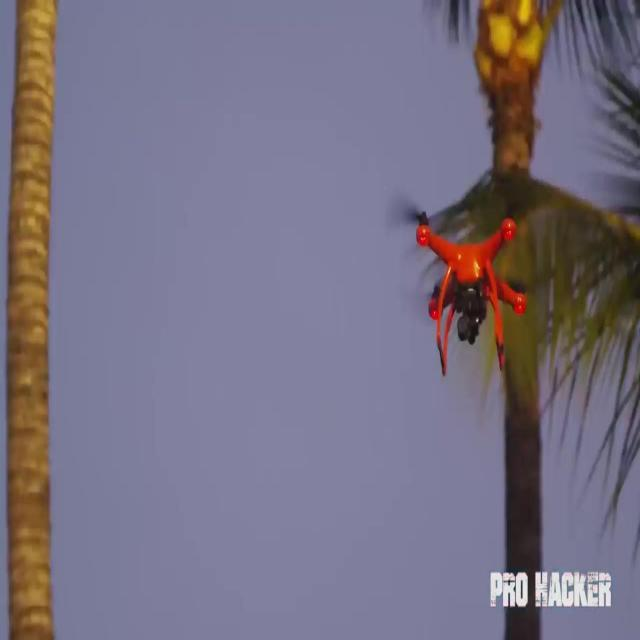UAV: (398, 204, 528, 378)
